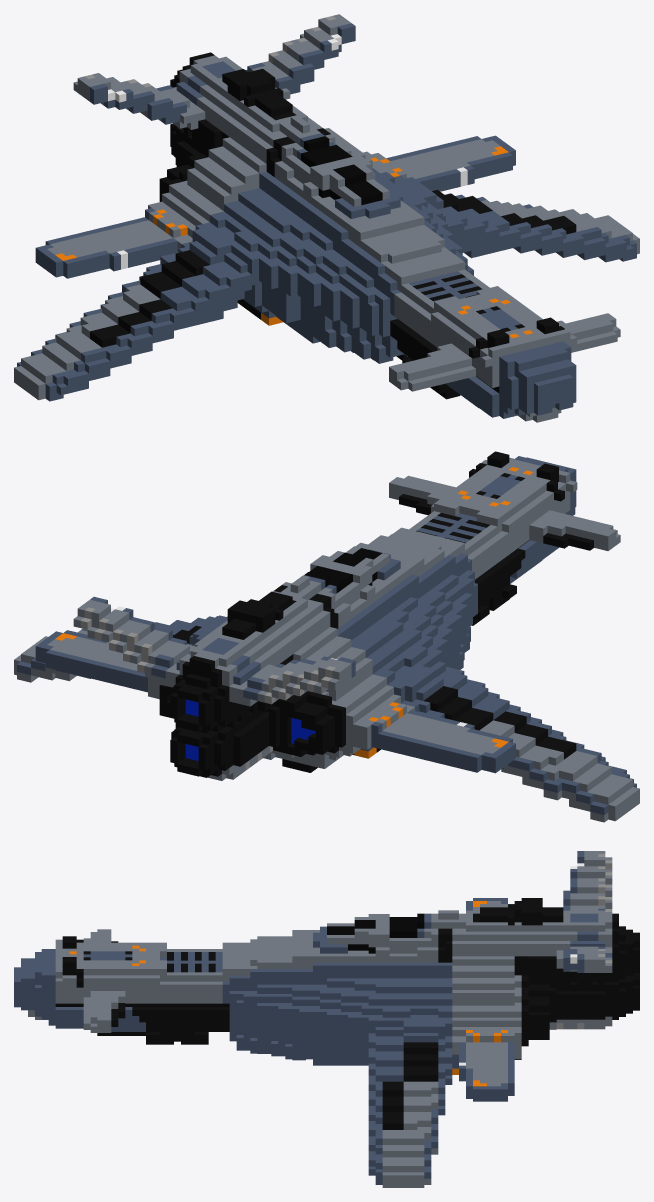
The model's file is Spaceship4.obj.
The picture shows the model from 3 angles, top to bottom: view 1: azimuth 30°, elevation 25°; view 2: azimuth 150°, elevation 25°; view 3: azimuth 270°, elevation 25°; orthographic projection. The views are drawn at different scales.
Parts seen in each view (by area): view 1: Spaceship4_Spaceships.032; view 2: Spaceship4_Spaceships.032; view 3: Spaceship4_Spaceships.032.
Boxes of the visible parts, x1,y1,x2,y2 form: Spaceship4_Spaceships.032: (14, 14, 639, 422); Spaceship4_Spaceships.032: (14, 451, 639, 822); Spaceship4_Spaceships.032: (14, 851, 639, 1187).
Bounding box in the file's own units: 8.5 × 2.5 × 9.
